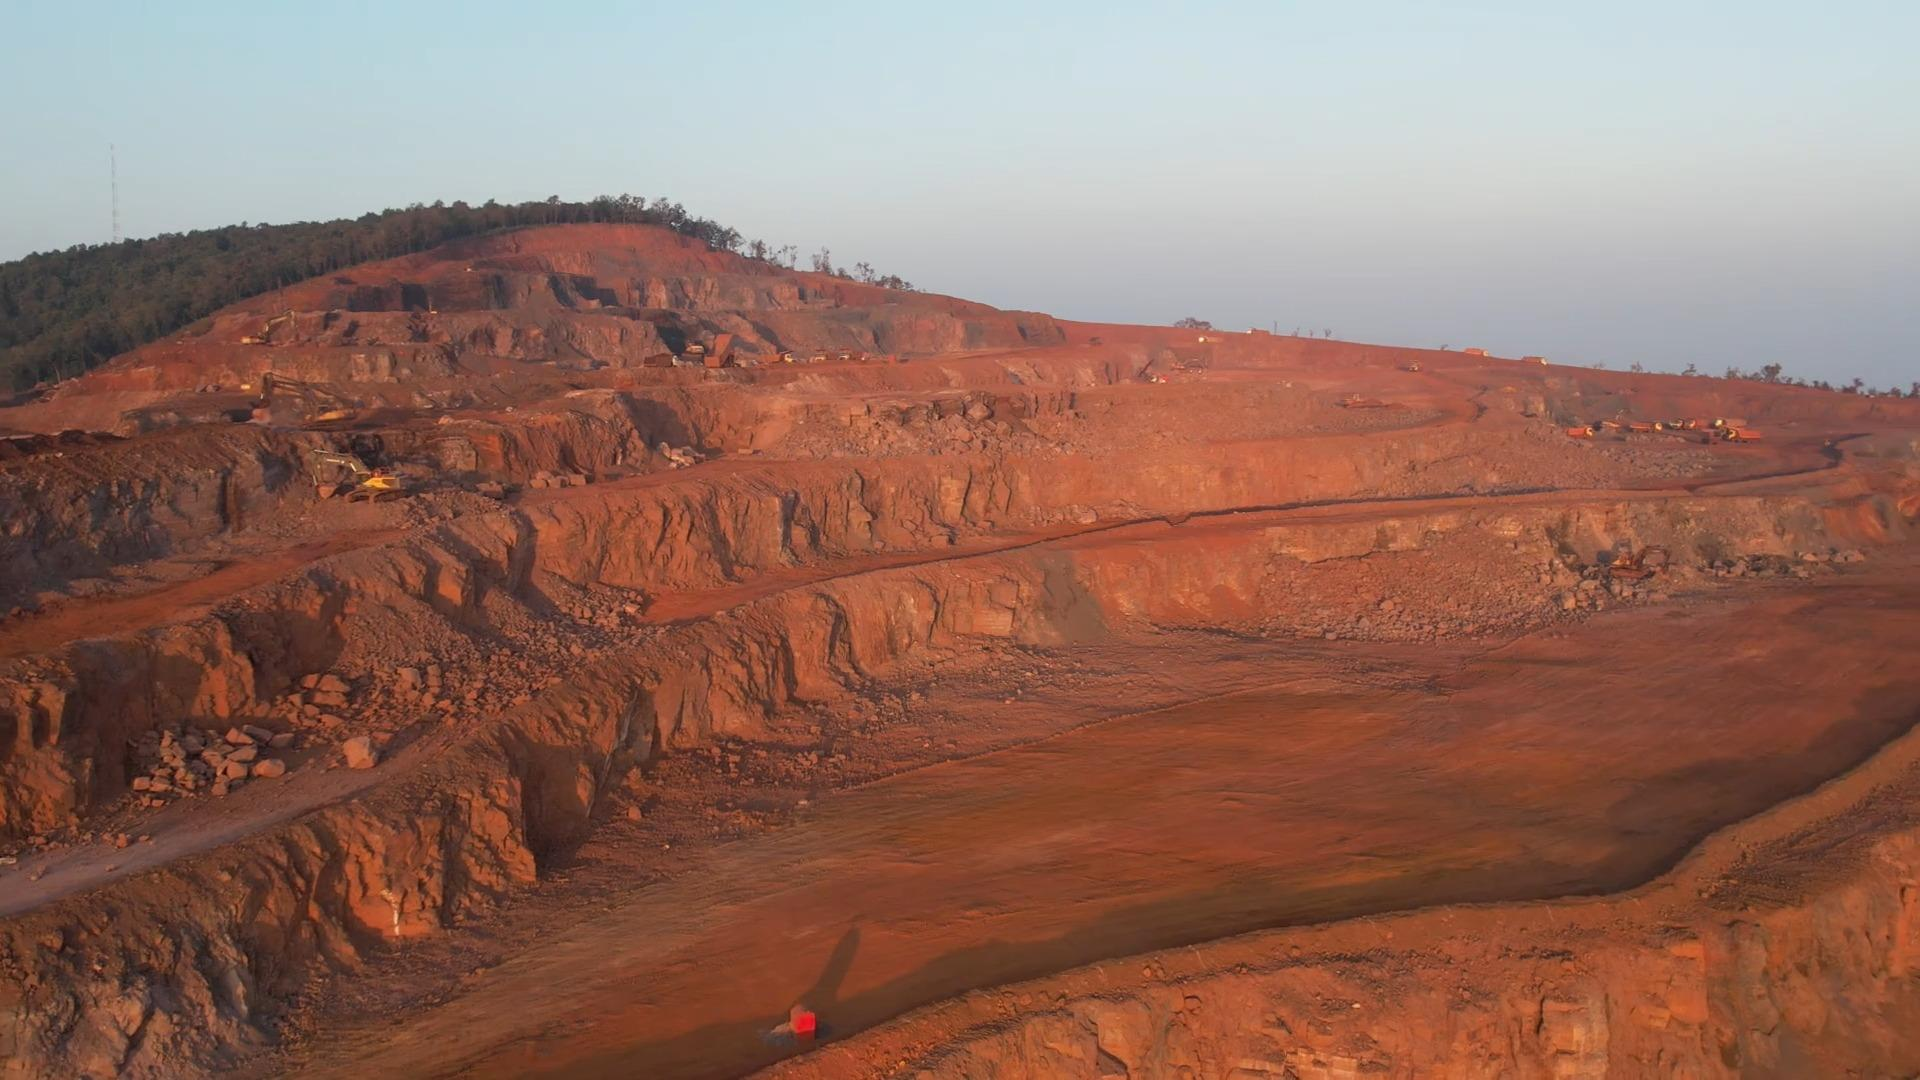excavator: (256, 372, 363, 429), (306, 446, 404, 505), (1610, 545, 1673, 580), (243, 310, 298, 347)
